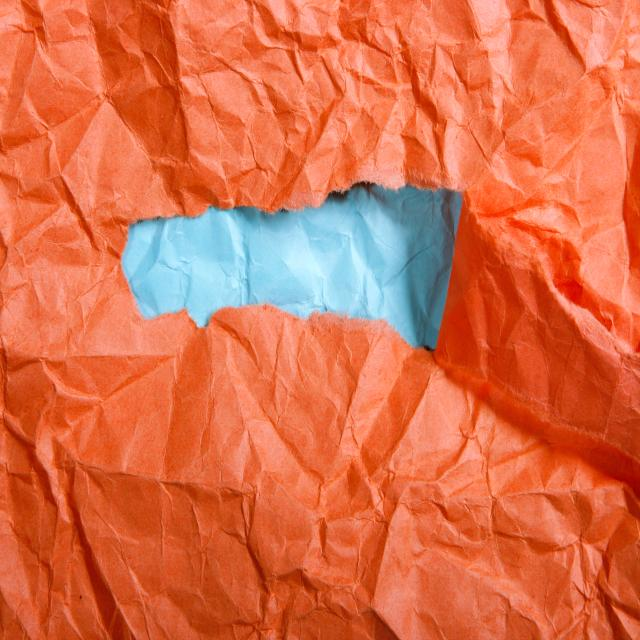paper: (203, 368, 532, 572), (160, 6, 440, 176)
